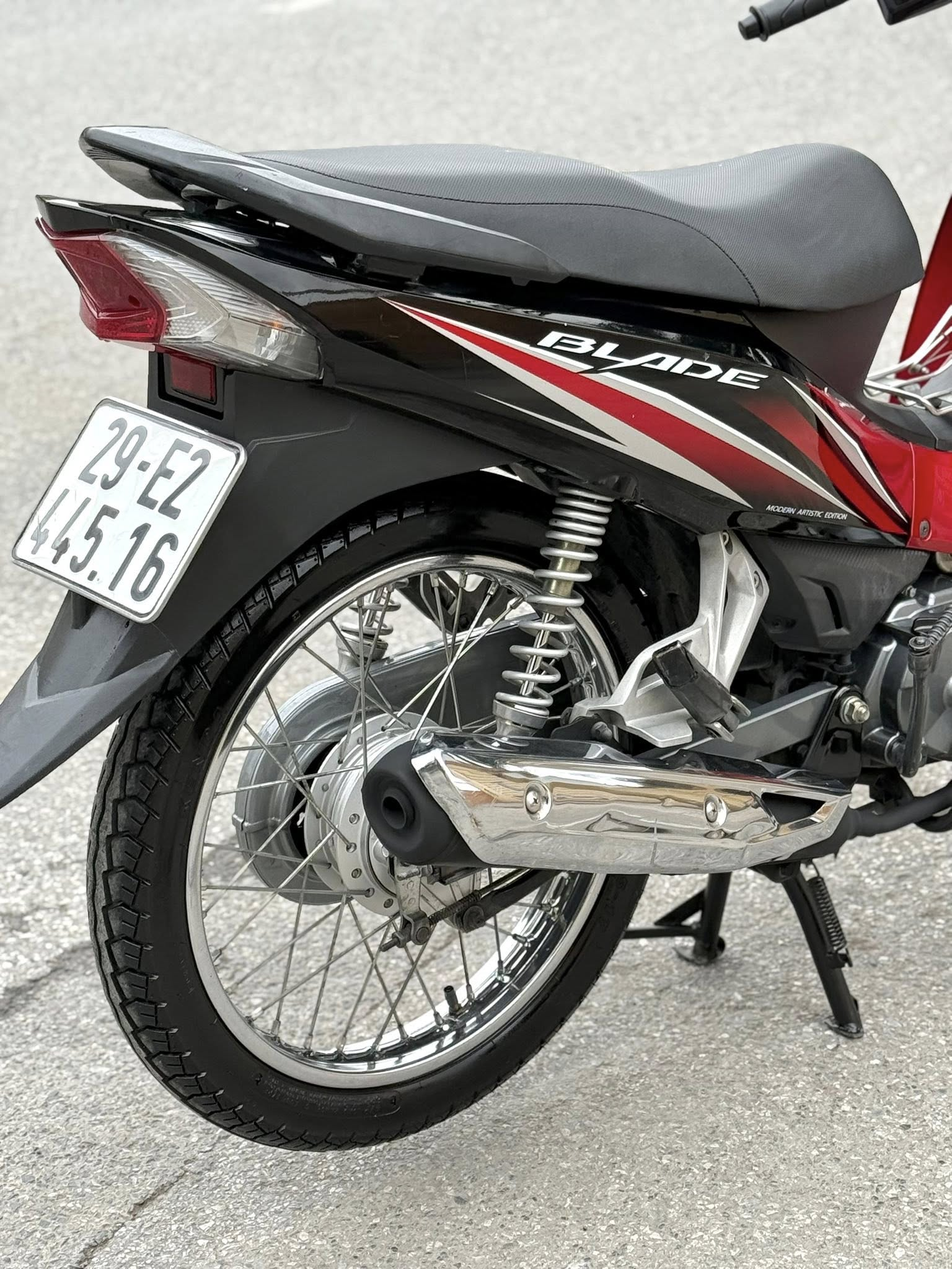bien_so: (6, 385, 253, 633)
